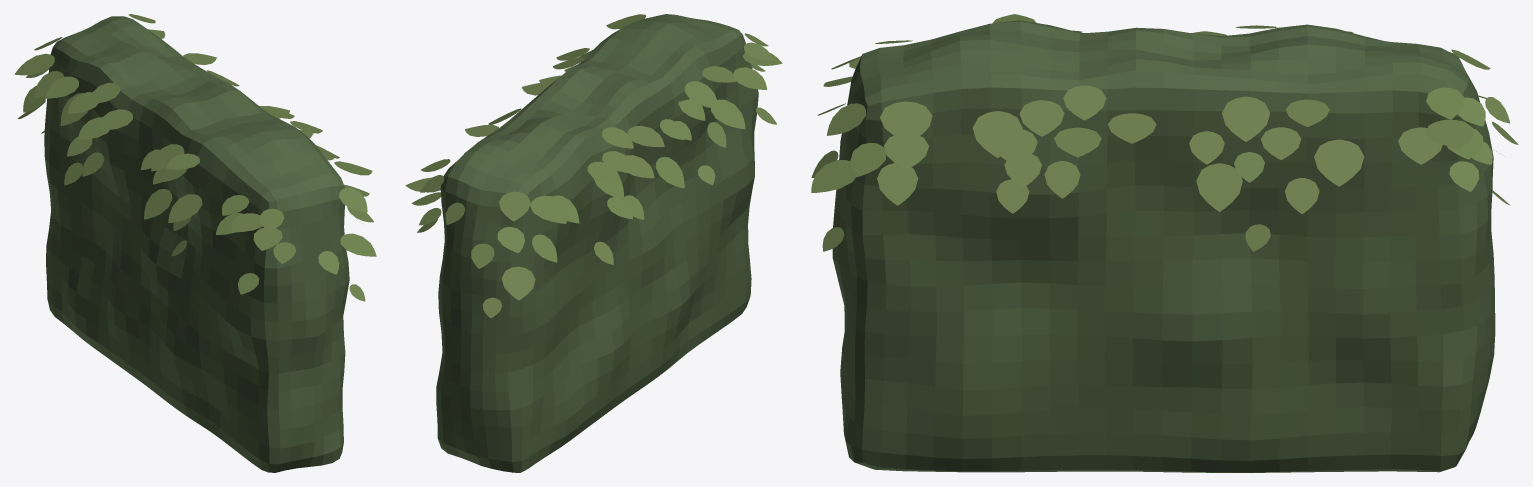
File: hedge.fbx
3 renders of one model, left to right at view 1: azimuth 30°, elevation 25°; view 2: azimuth 150°, elevation 25°; view 3: azimuth 270°, elevation 25°, orthographic. The views are drawn at different scales.
Visible parts, largest first — view 1: hedge1; view 2: hedge1; view 3: hedge1.
Boxes of the visible parts, bbox=[...] form: hedge1: bbox=[14, 14, 376, 472]; hedge1: bbox=[405, 14, 782, 472]; hedge1: bbox=[811, 14, 1518, 472].
Bounding box in the file's own units: 4012 × 6688 × 10385.
